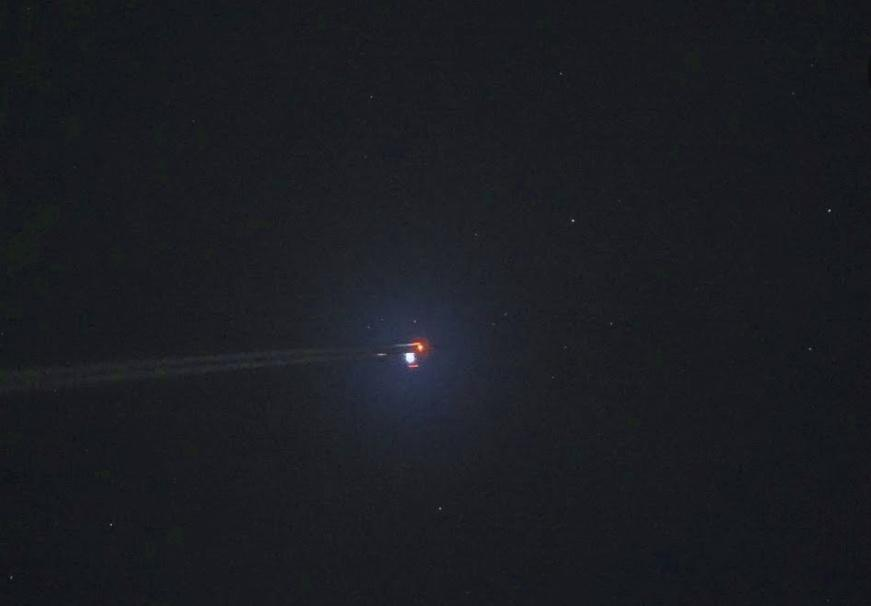Plane: (0, 327, 503, 398)
